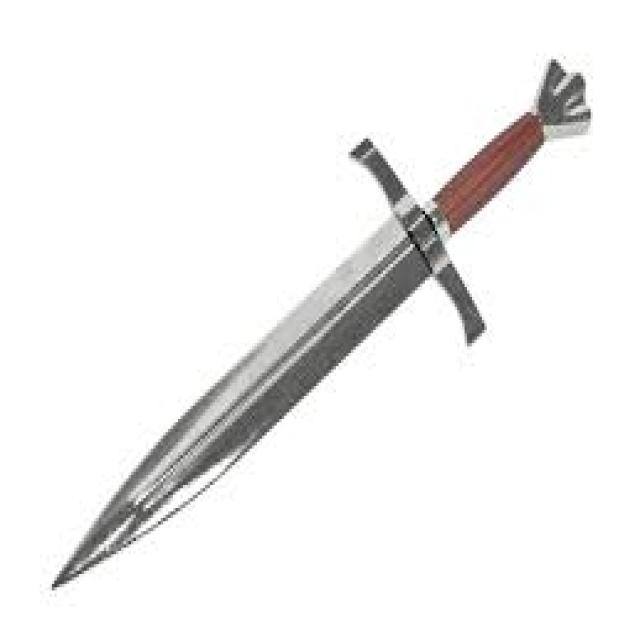Gun: (35, 34, 598, 586)
